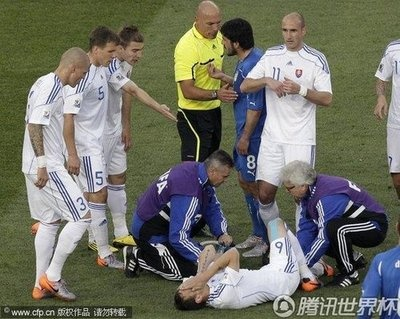falling: (168, 211, 318, 315)
